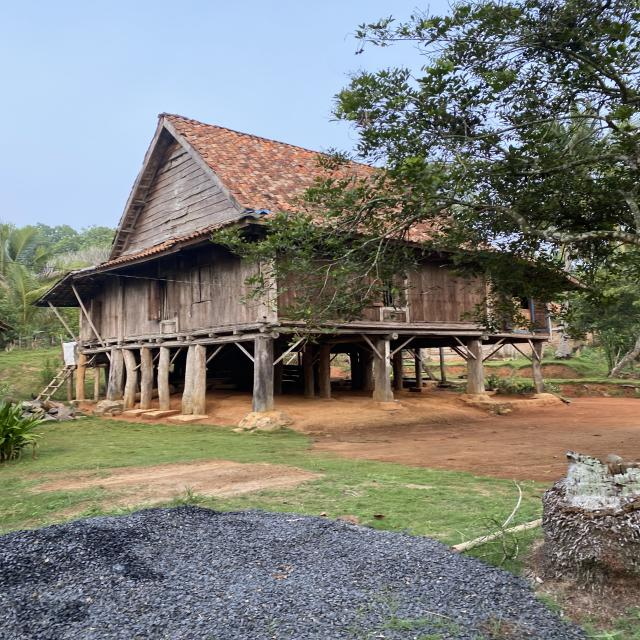Kolom: (415, 348, 423, 388)
Tembok Bangunan: (79, 232, 553, 341)
jendela: (147, 274, 176, 322), (190, 264, 212, 304)
